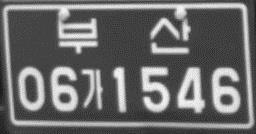0: (16, 65, 45, 111)
1: (111, 65, 129, 115)
4: (175, 65, 207, 115)
5: (139, 63, 171, 113)
6: (210, 64, 242, 115), (48, 64, 80, 114)
가: (79, 67, 103, 111)
부산_D: (55, 12, 192, 55)
